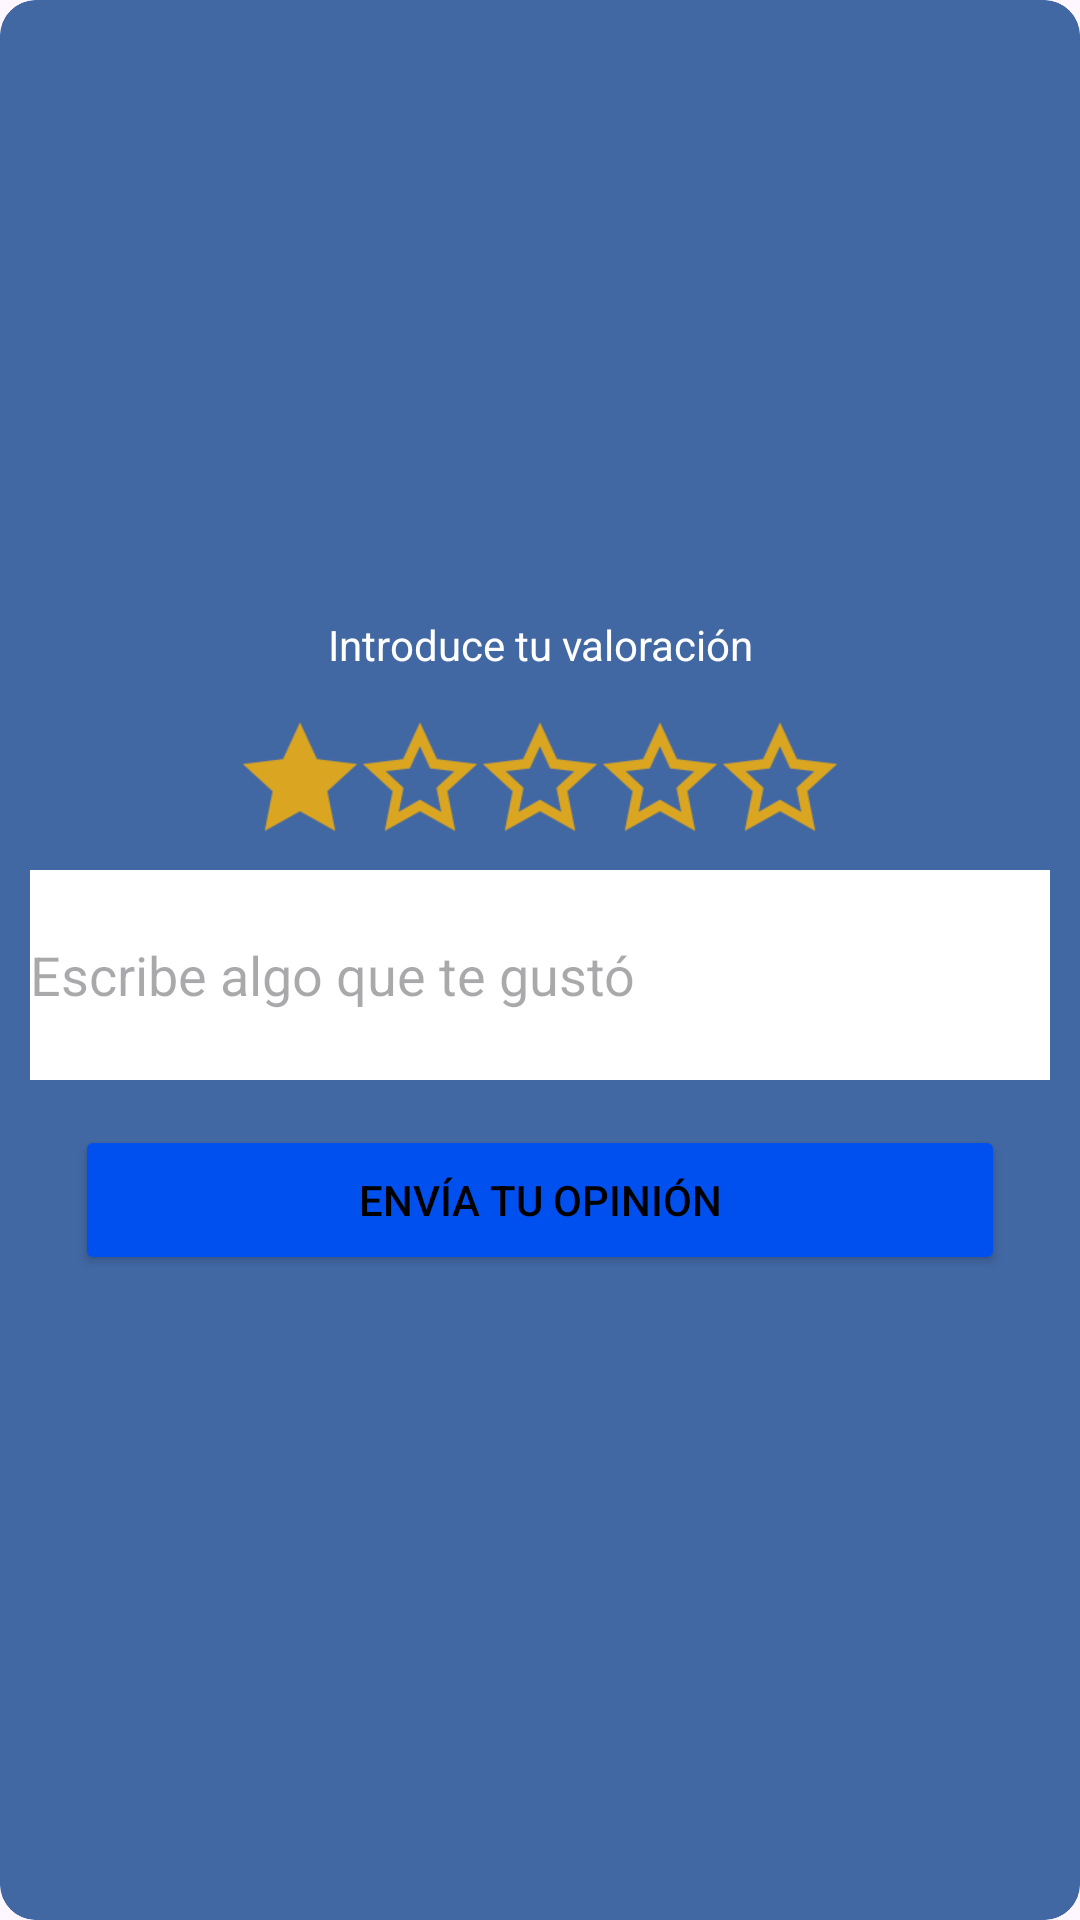

Icons on this 1080 x 1920 Android screen, each with its box as (x1, y1, x2, y2):
empty star: (363, 723, 477, 831), (483, 723, 597, 831), (603, 723, 717, 831), (723, 723, 837, 831)
rating star: (243, 723, 357, 831)
